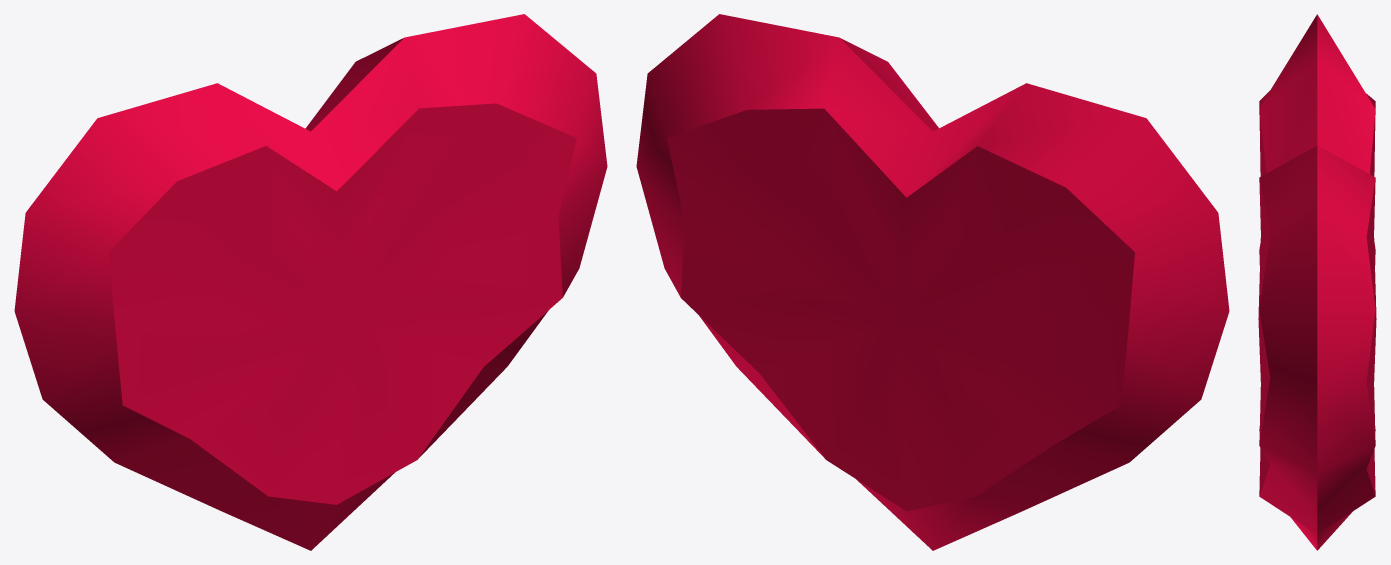
Rendered from Heart.glb.
3 views of the same model, side by side, from view 1: azimuth 30°, elevation 25°; view 2: azimuth 150°, elevation 25°; view 3: azimuth 270°, elevation 25° (orthographic). The views are drawn at different scales.
Parts seen in each view (by area): view 1: Heart_Health; view 2: Heart_Health; view 3: Heart_Health.
Part boxes in pixels (x1=…): Heart_Health: x1=14, y1=14, x2=607, y2=550; Heart_Health: x1=636, y1=14, x2=1229, y2=550; Heart_Health: x1=1258, y1=14, x2=1376, y2=550.
Size of the model in its own units: 1.53 by 1.21 by 0.2896.
